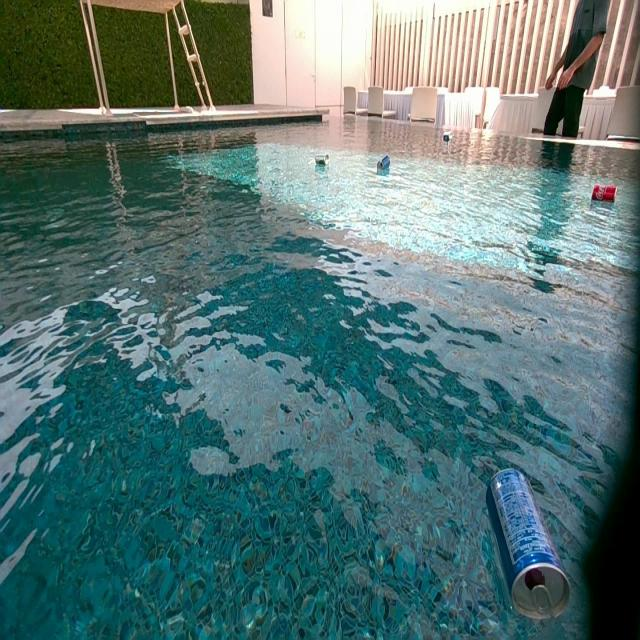Cans: (482, 468, 570, 630), (592, 184, 615, 203), (314, 155, 329, 170), (378, 156, 392, 172), (443, 132, 450, 142)
